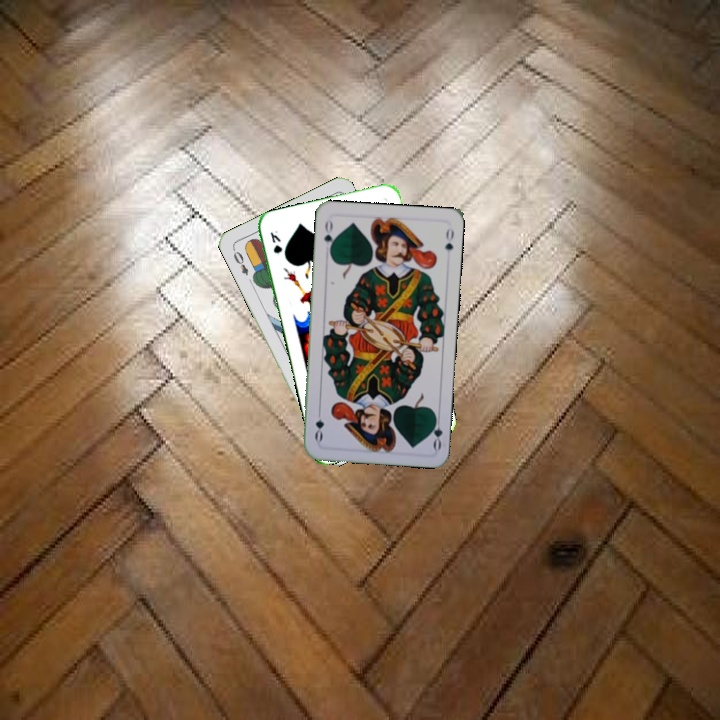EO: (229, 244, 251, 278)
GK: (266, 226, 285, 258)
GO: (426, 411, 445, 452), (320, 216, 337, 256)
